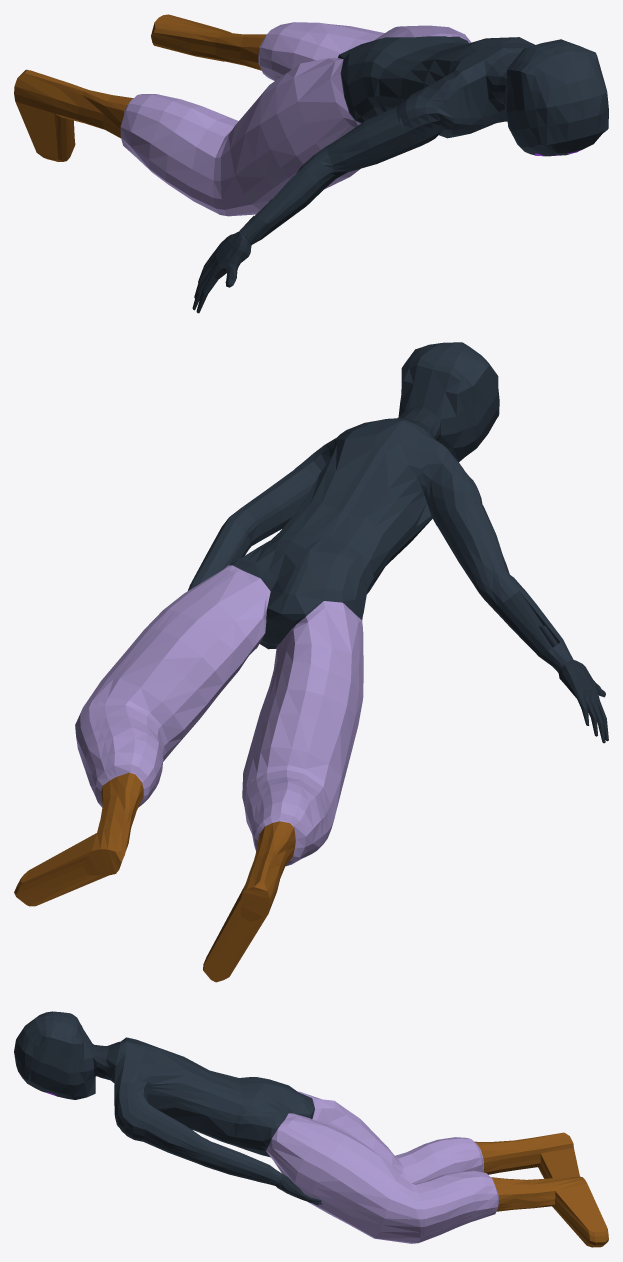
File: Oracle_Die_000010.obj
3 renders of one model, top to bottom at view 1: azimuth 30°, elevation 25°; view 2: azimuth 150°, elevation 25°; view 3: azimuth 270°, elevation 25°, orthographic. The views are drawn at different scales.
Parts seen in each view (by area): view 1: Cube; view 2: Cube; view 3: Cube.
Boxes of the visible parts, box(x1,y1,x2,y2) form: Cube: box(14, 14, 608, 313); Cube: box(14, 342, 608, 982); Cube: box(14, 1011, 608, 1247).
Size of the model in its own units: 1.99 by 1.71 by 3.72.
